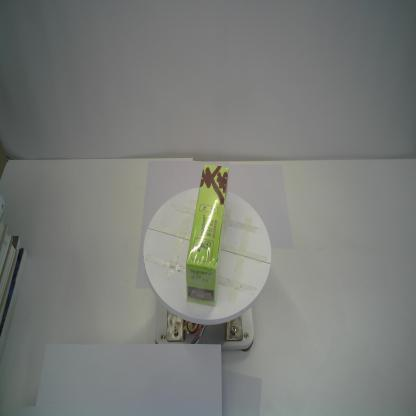Instant Drink: (184, 163, 230, 307)
